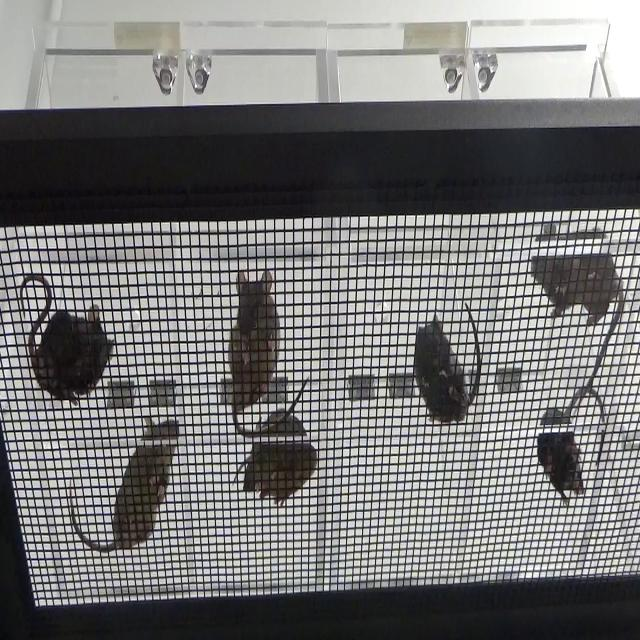scratch: (211, 257, 317, 430)
